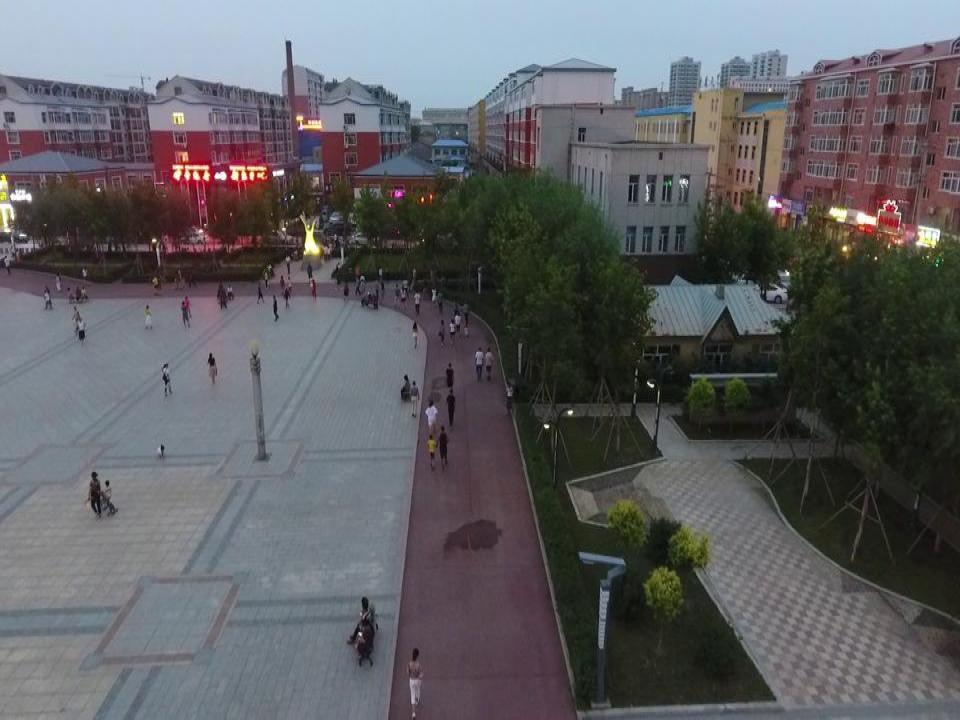car: (739, 274, 791, 306), (0, 224, 29, 245), (264, 225, 295, 244), (351, 232, 379, 247), (181, 231, 206, 244), (325, 220, 346, 232), (345, 211, 358, 228), (330, 209, 342, 223)
truck: (286, 220, 306, 235)
van: (321, 208, 329, 221)
